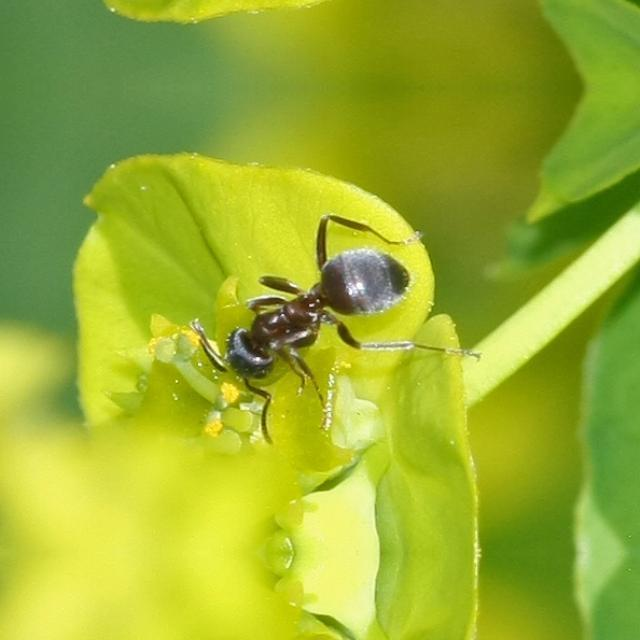Lasius: (192, 232, 422, 404)
